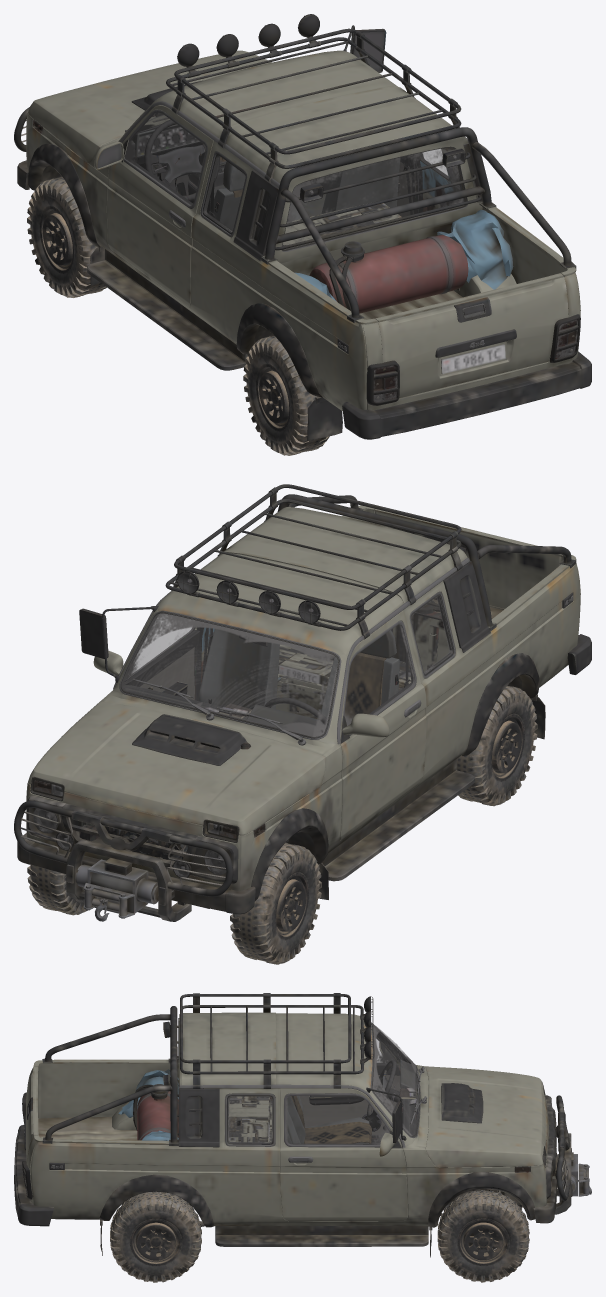
3 renders of one model, top to bottom at view 1: azimuth 30°, elevation 25°; view 2: azimuth 150°, elevation 25°; view 3: azimuth 270°, elevation 25°, orthographic. The views are drawn at different scales.
Visible parts, largest first — view 1: Mesh_3.001, Mesh_4.001, Mesh_5.001, Mesh_2.001, Mesh_14.001, Mesh_0.001, Mesh_9.001, Mesh_8.001, Mesh_11.001, Mesh_6.001, Mesh_10.001; view 2: Mesh_4.001, Mesh_3.001, Mesh_5.001, Mesh_2.001, Mesh_14.001, Mesh_0.001, Mesh_8.001, Mesh_11.001, Mesh_9.001, Mesh_10.001, Mesh_1.001, Mesh_6.001 (+1 smaller); view 3: Mesh_4.001, Mesh_3.001, Mesh_2.001, Mesh_5.001, Mesh_1.001, Mesh_14.001, Mesh_9.001, Mesh_8.001, Mesh_11.001, Mesh_6.001.
Part boxes in pixels (x1=…): Mesh_3.001: x1=14, y1=14, x2=591, y2=439; Mesh_4.001: x1=25, y1=30, x2=580, y2=417; Mesh_5.001: x1=18, y1=14, x2=582, y2=436; Mesh_2.001: x1=28, y1=50, x2=568, y2=398; Mesh_14.001: x1=32, y1=112, x2=578, y2=401; Mesh_0.001: x1=27, y1=177, x2=329, y2=455; Mesh_9.001: x1=130, y1=124, x2=464, y2=230; Mesh_8.001: x1=131, y1=119, x2=464, y2=221; Mesh_11.001: x1=282, y1=147, x2=460, y2=245; Mesh_6.001: x1=40, y1=165, x2=342, y2=440; Mesh_10.001: x1=132, y1=141, x2=464, y2=214; Mesh_4.001: x1=26, y1=493, x2=580, y2=921; Mesh_3.001: x1=14, y1=484, x2=591, y2=921; Mesh_5.001: x1=19, y1=484, x2=576, y2=921; Mesh_2.001: x1=28, y1=509, x2=561, y2=835; Mesh_14.001: x1=33, y1=572, x2=452, y2=877; Mesh_0.001: x1=230, y1=686, x2=537, y2=964; Mesh_8.001: x1=123, y1=627, x2=412, y2=732; Mesh_11.001: x1=201, y1=614, x2=449, y2=719; Mesh_9.001: x1=122, y1=613, x2=442, y2=728; Mesh_10.001: x1=123, y1=617, x2=413, y2=719; Mesh_1.001: x1=27, y1=864, x2=87, y2=915; Mesh_6.001: x1=76, y1=694, x2=545, y2=908; Mesh_4.001: x1=15, y1=997, x2=591, y2=1235; Mesh_3.001: x1=14, y1=993, x2=591, y2=1246; Mesh_2.001: x1=24, y1=1066, x2=546, y2=1221; Mesh_5.001: x1=14, y1=994, x2=589, y2=1244; Mesh_1.001: x1=110, y1=1190, x2=529, y2=1282; Mesh_14.001: x1=24, y1=1022, x2=544, y2=1191; Mesh_9.001: x1=286, y1=1024, x2=419, y2=1143; Mesh_8.001: x1=286, y1=1031, x2=417, y2=1144; Mesh_11.001: x1=228, y1=1096, x2=272, y2=1142; Mesh_6.001: x1=100, y1=1189, x2=522, y2=1257.
Bounding box in the file's own units: 2.03 × 1.89 × 4.47.
Materials: 7 (7 with a texture image).
